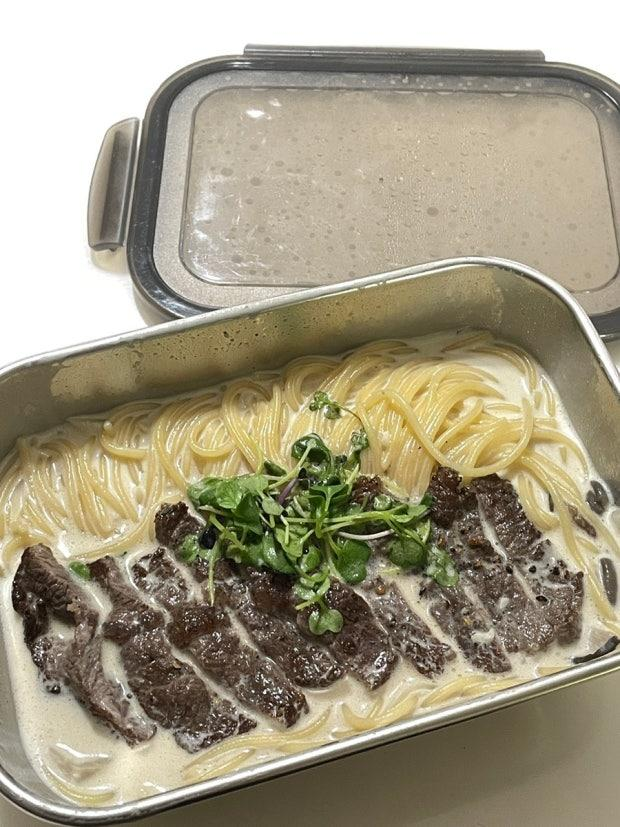Lunch Box: (0, 47, 619, 824)
